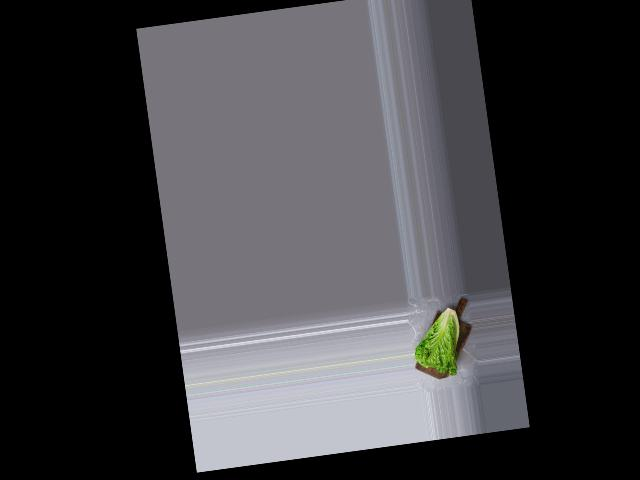lettuce: (409, 302, 473, 380)
